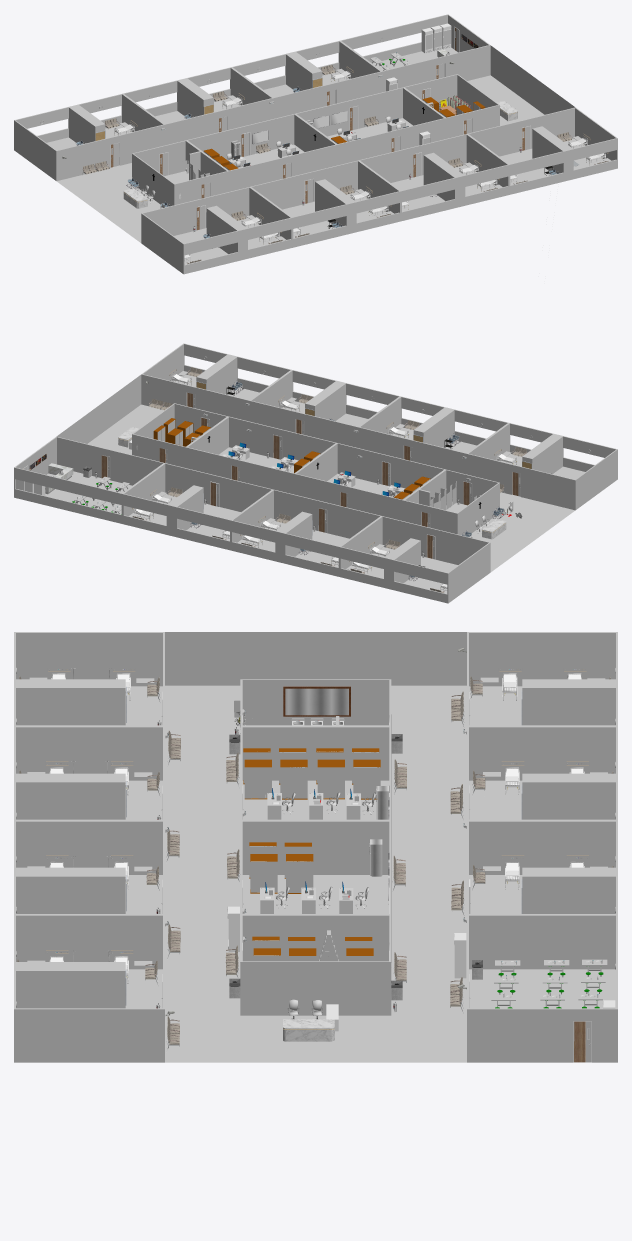
The model's file is SUP_hospital_01.glb.
3 renders of one model, top to bottom at view 1: azimuth 30°, elevation 25°; view 2: azimuth 150°, elevation 25°; view 3: azimuth 270°, elevation 25°, orthographic. The views are drawn at different scales.
Parts seen in each view (by area): view 1: SUP_hospital_01; view 2: SUP_hospital_01; view 3: SUP_hospital_01.
Part boxes in pixels (x1,y1,x2,y2): SUP_hospital_01: (14, 14, 617, 274); SUP_hospital_01: (14, 343, 617, 603); SUP_hospital_01: (14, 632, 617, 1062).
Size of the model in its own units: 42.96 by 15.06 by 29.07.
Materials: 90 (50 with a texture image).
